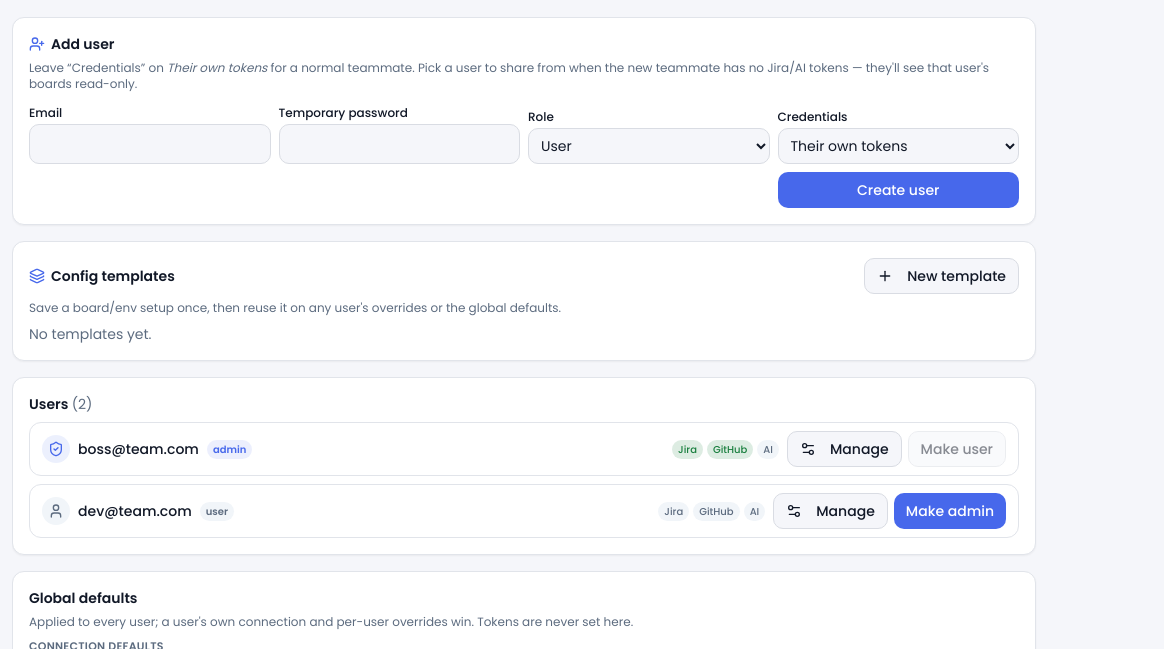
Test: Admin config templates (v1.47) › creates a template from a name + config
The width and height of the screenshot is (1164, 649).
Expected: the text "No templates yet." is shown, x1=29 y1=324 x2=152 y2=344
Click the button "New template": coordinates (942, 276) x1=864 y1=258 x2=1019 y2=294
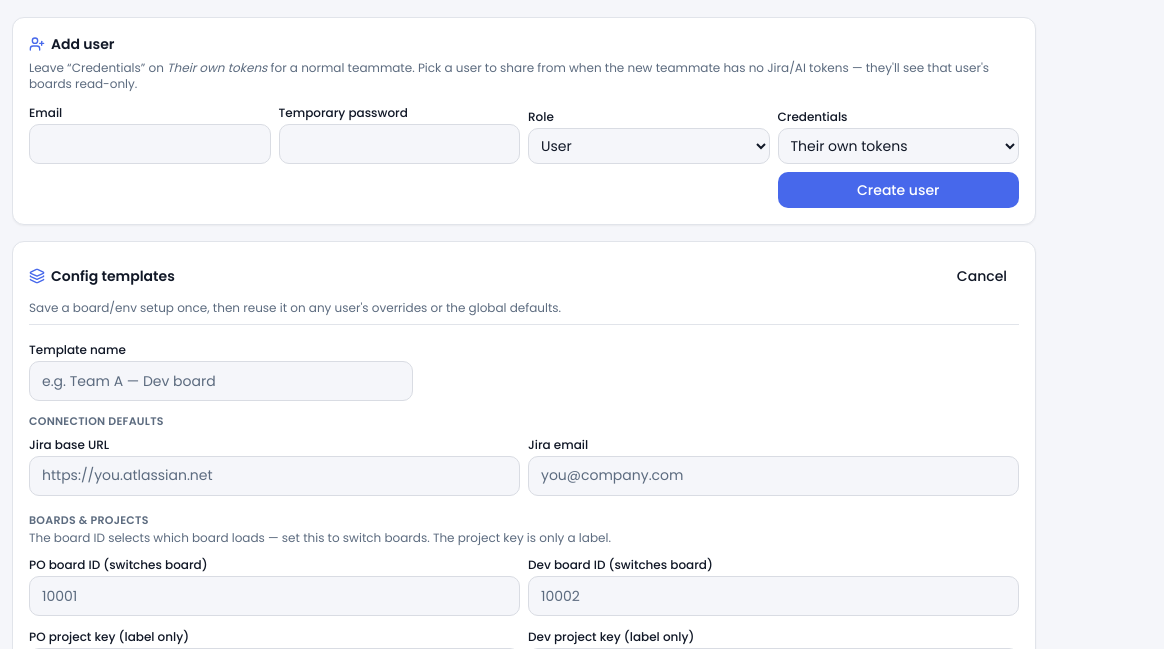
In the field labelled "Template name": coordinates (221, 381) x1=29 y1=361 x2=413 y2=401, type "Team A — Dev"
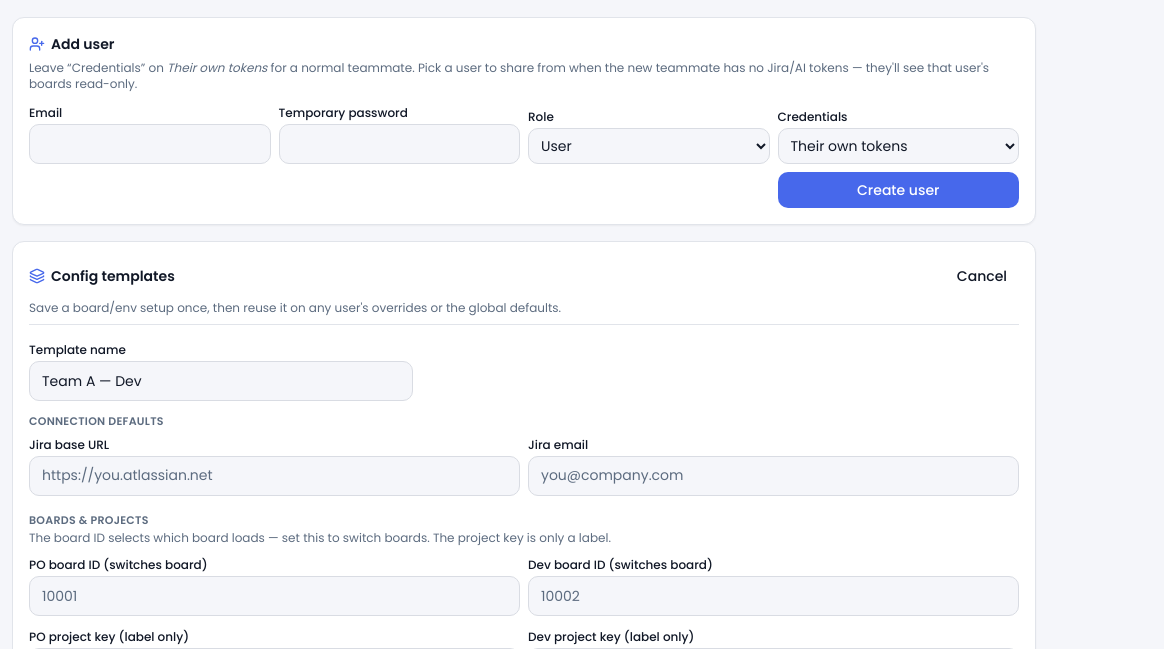
The template form has its own id prefix, so its fields are addressable alongside the global form.
In the field with id "tpl-JIRA_DEV_BOARD_ID": coordinates (774, 596) x1=528 y1=576 x2=1019 y2=616, type "1038"
(page scrolled)
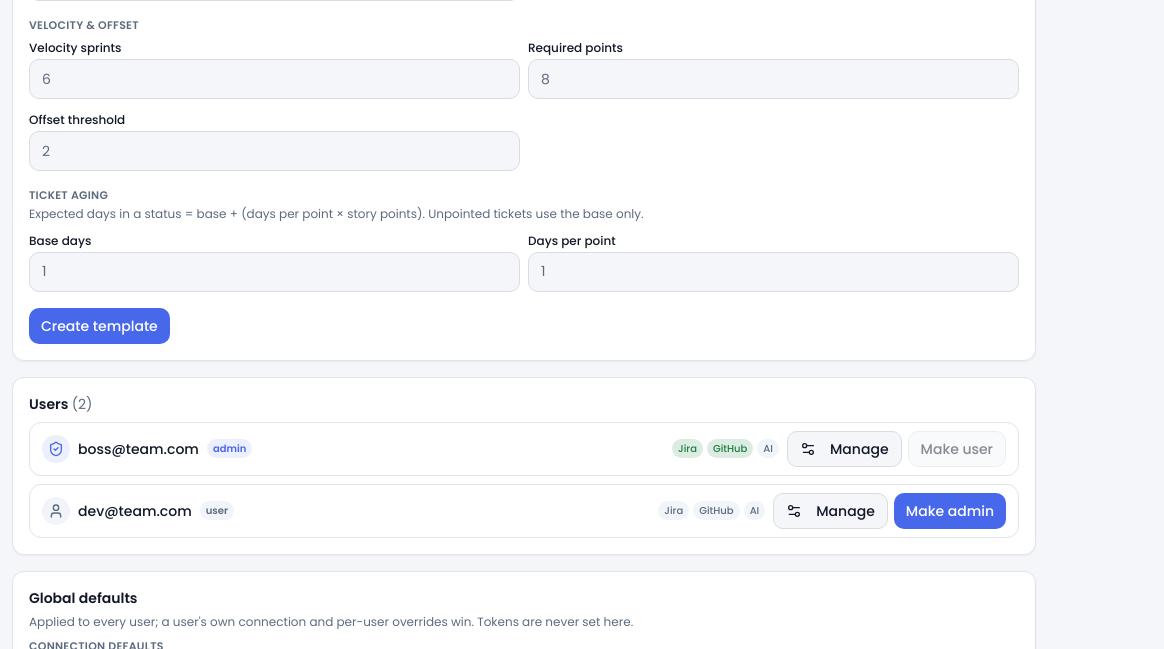
Click the button "Create template": coordinates (99, 326) x1=29 y1=308 x2=170 y2=344
(page scrolled)
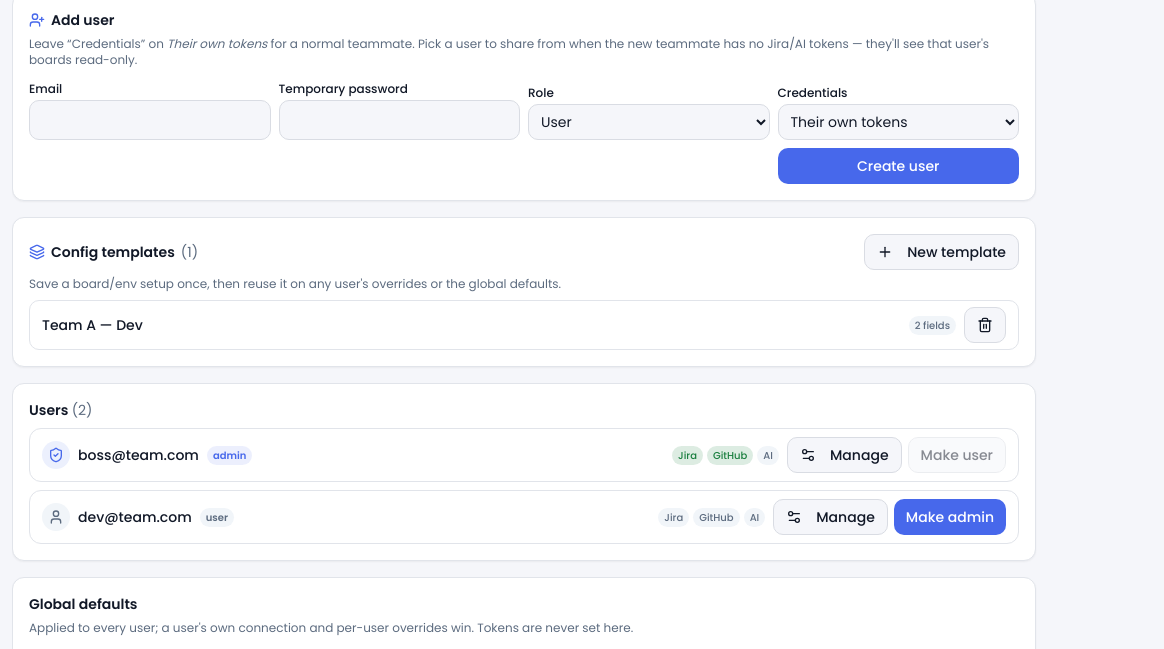
Expected: the text "Team A — Dev" is shown, x1=42 y1=315 x2=143 y2=335
